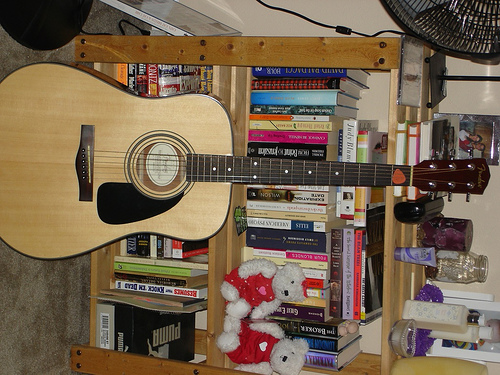guitar: (1, 64, 491, 257)
